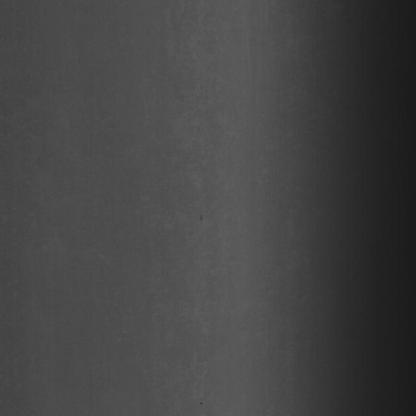inclusion: (196, 204, 209, 230)
